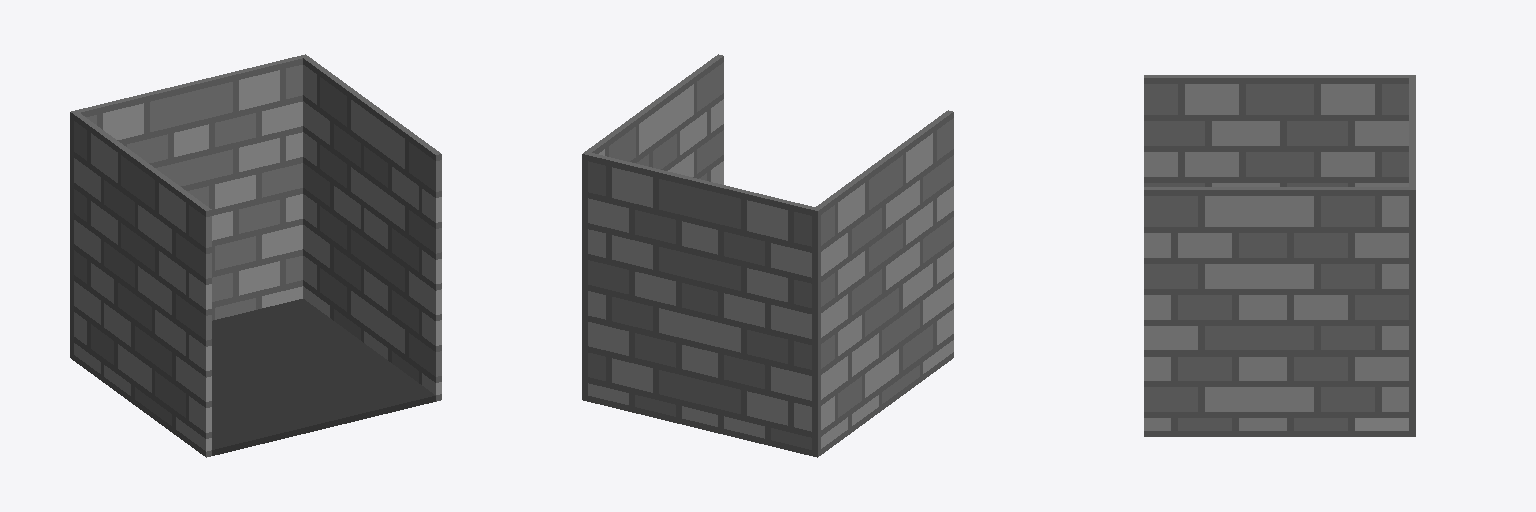
The picture shows the model from 3 angles: view 1: azimuth 30°, elevation 25°; view 2: azimuth 150°, elevation 25°; view 3: azimuth 270°, elevation 25°; orthographic projection.
Parts seen in each view (by area): view 1: object 1; view 2: object 1; view 3: object 1.
Boxes of the visible parts, box(x1,y1,x2,y2) form: object 1: box(70, 54, 441, 457); object 1: box(582, 54, 953, 457); object 1: box(1144, 75, 1415, 436).
Size of the model in its own units: 4 by 4 by 4.
1 materials, 1 textured.